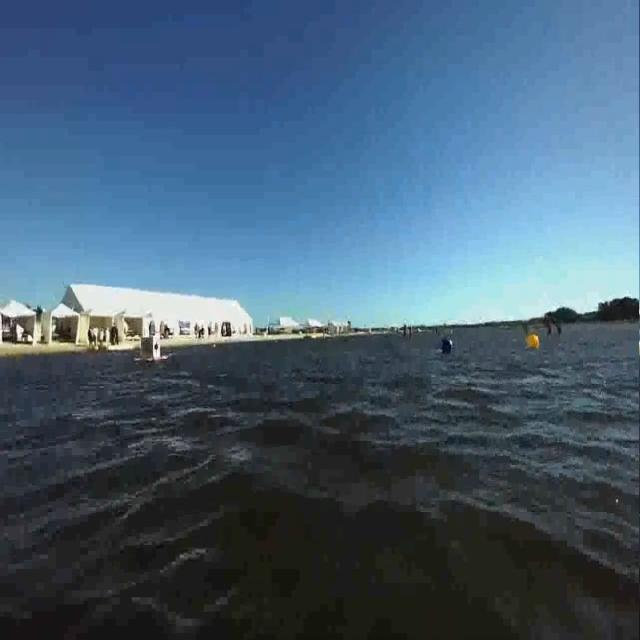blue-buoy: (439, 330, 461, 367)
yellow-buoy: (527, 331, 540, 352)
